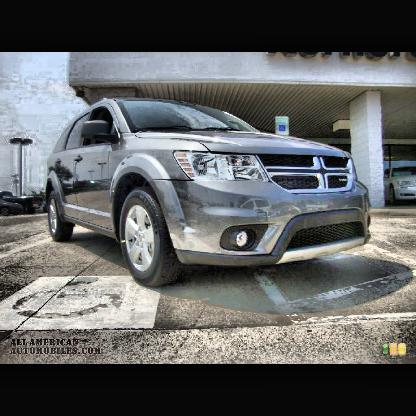Dodge Journey SUV 2012: (48, 99, 372, 289)
